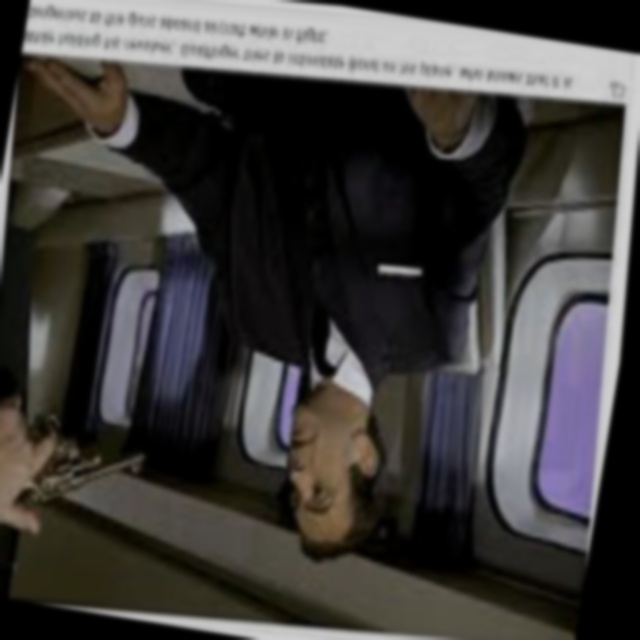gun: (7, 403, 159, 527)
